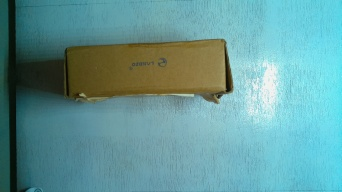a: (63, 34, 250, 112)
